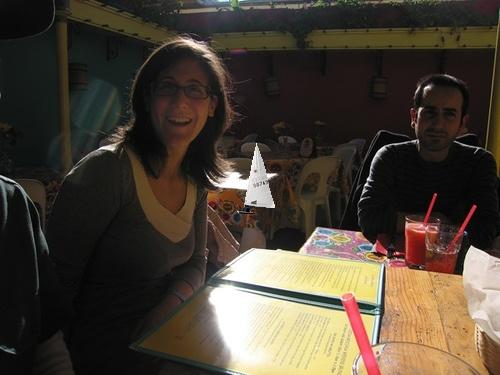tampered: (238, 144, 275, 214)
